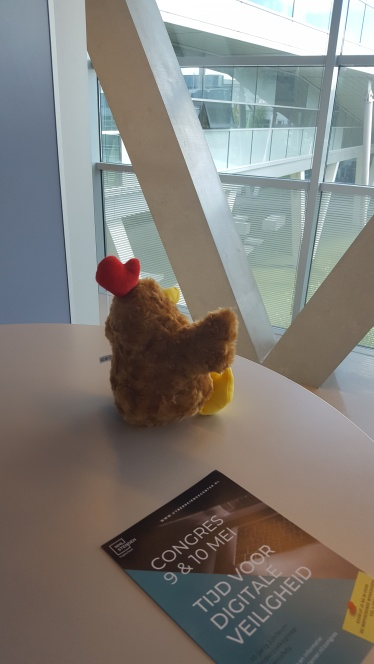chicken_back: (95, 255, 235, 428)
